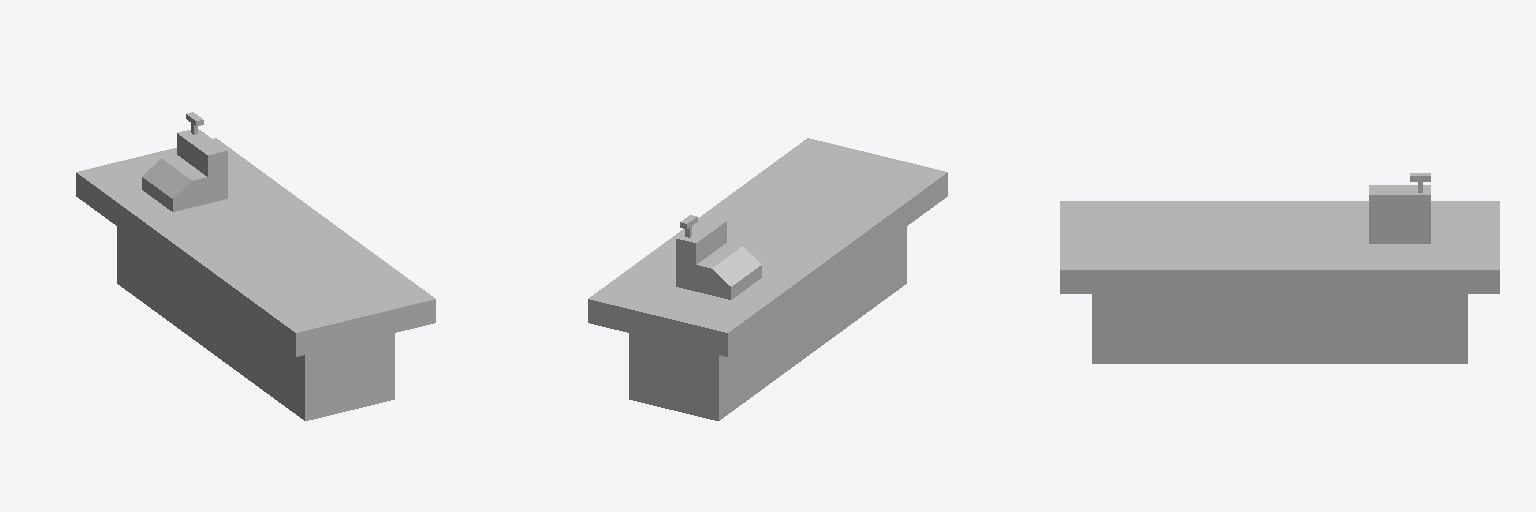
Rendered from cashcounter.obj.
3 renders of one model, left to right at view 1: azimuth 30°, elevation 25°; view 2: azimuth 150°, elevation 25°; view 3: azimuth 270°, elevation 25°, orthographic.
Parts seen in each view (by area): view 1: Cube, Plane.001; view 2: Cube, Plane.001; view 3: Cube, Plane.001.
Part boxes in pixels (x1,y1,x2,y2): Cube: (76, 138, 435, 420); Plane.001: (142, 112, 227, 211); Cube: (588, 138, 947, 420); Plane.001: (676, 215, 761, 299); Cube: (1060, 201, 1499, 363); Plane.001: (1369, 173, 1430, 243).
Bounding box in the file's own units: 1.85 × 2.17 × 5.04.